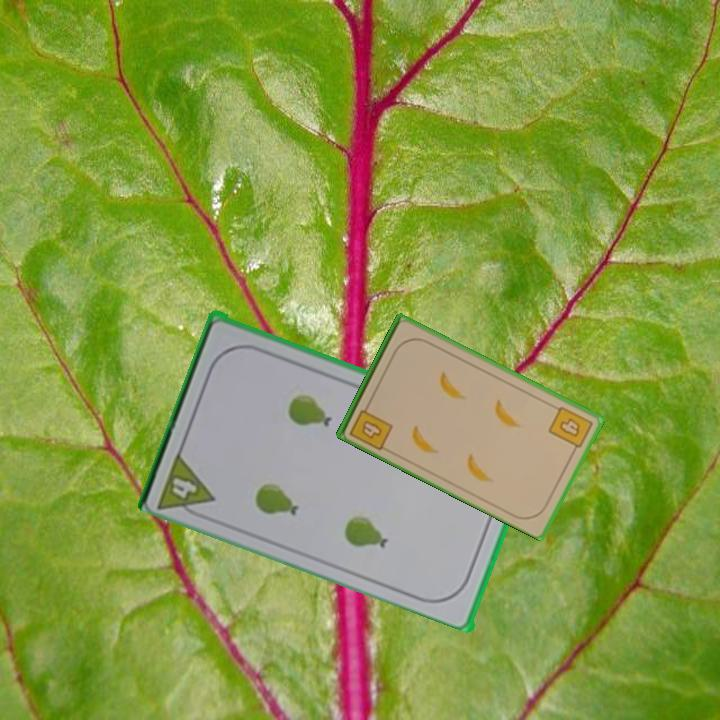4b: (545, 402, 596, 456), (346, 398, 396, 453)
4p: (154, 446, 219, 523)
